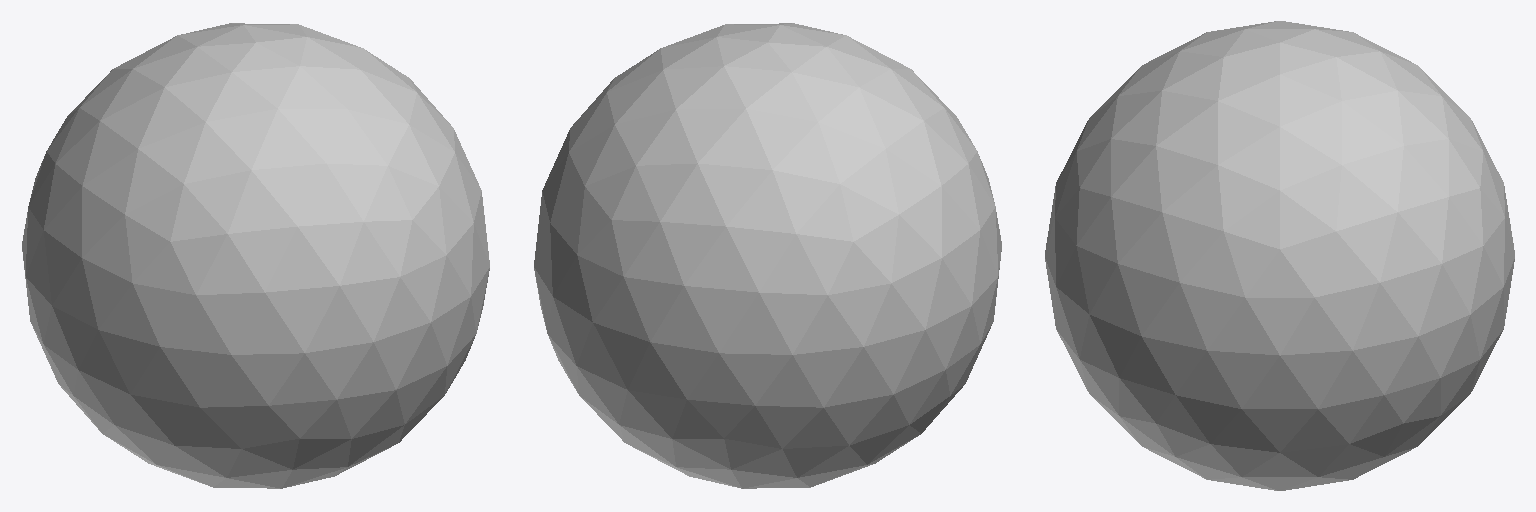
Rendered from itemTankSphere3.obj.
The picture shows the model from 3 angles: view 1: azimuth 30°, elevation 25°; view 2: azimuth 150°, elevation 25°; view 3: azimuth 270°, elevation 25°; orthographic projection.
Parts seen in each view (by area): view 1: Icosphere_Icosphere.005; view 2: Icosphere_Icosphere.005; view 3: Icosphere_Icosphere.005.
Boxes of the visible parts, <box> form: Icosphere_Icosphere.005: <box>22,23,489,488</box>; Icosphere_Icosphere.005: <box>534,23,1001,488</box>; Icosphere_Icosphere.005: <box>1045,21,1514,490</box>.
Bounding box in the file's own units: 0.6 × 0.6 × 0.6.